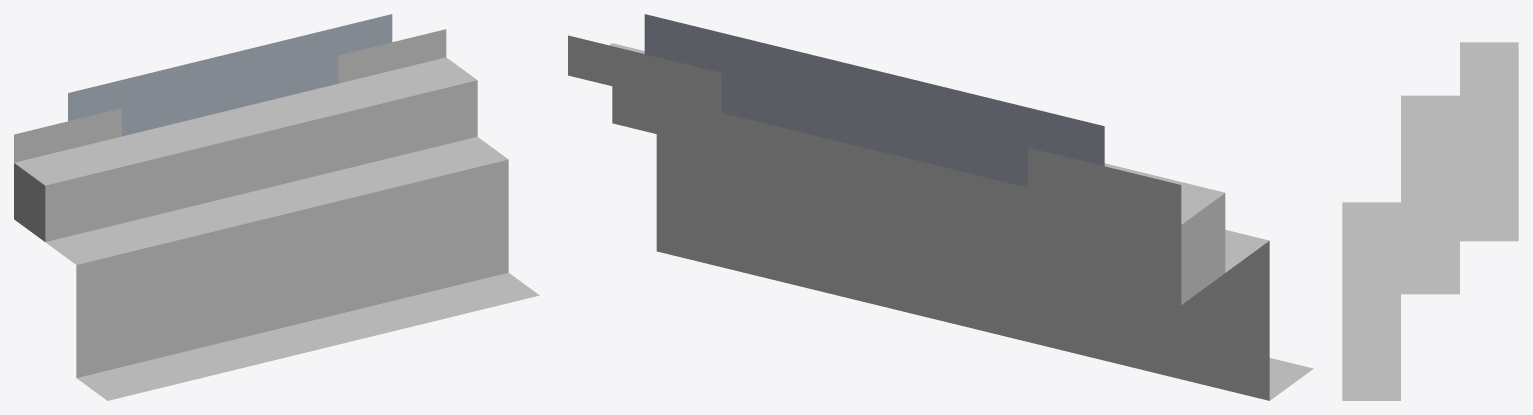
File: cell_17.obj
The picture shows the model from 3 angles, left to right: view 1: azimuth 30°, elevation 25°; view 2: azimuth 150°, elevation 25°; view 3: azimuth 270°, elevation 25°; orthographic projection. The views are drawn at different scales.
Bounding box in the file's own units: 1 × 0.5 × 0.375.
